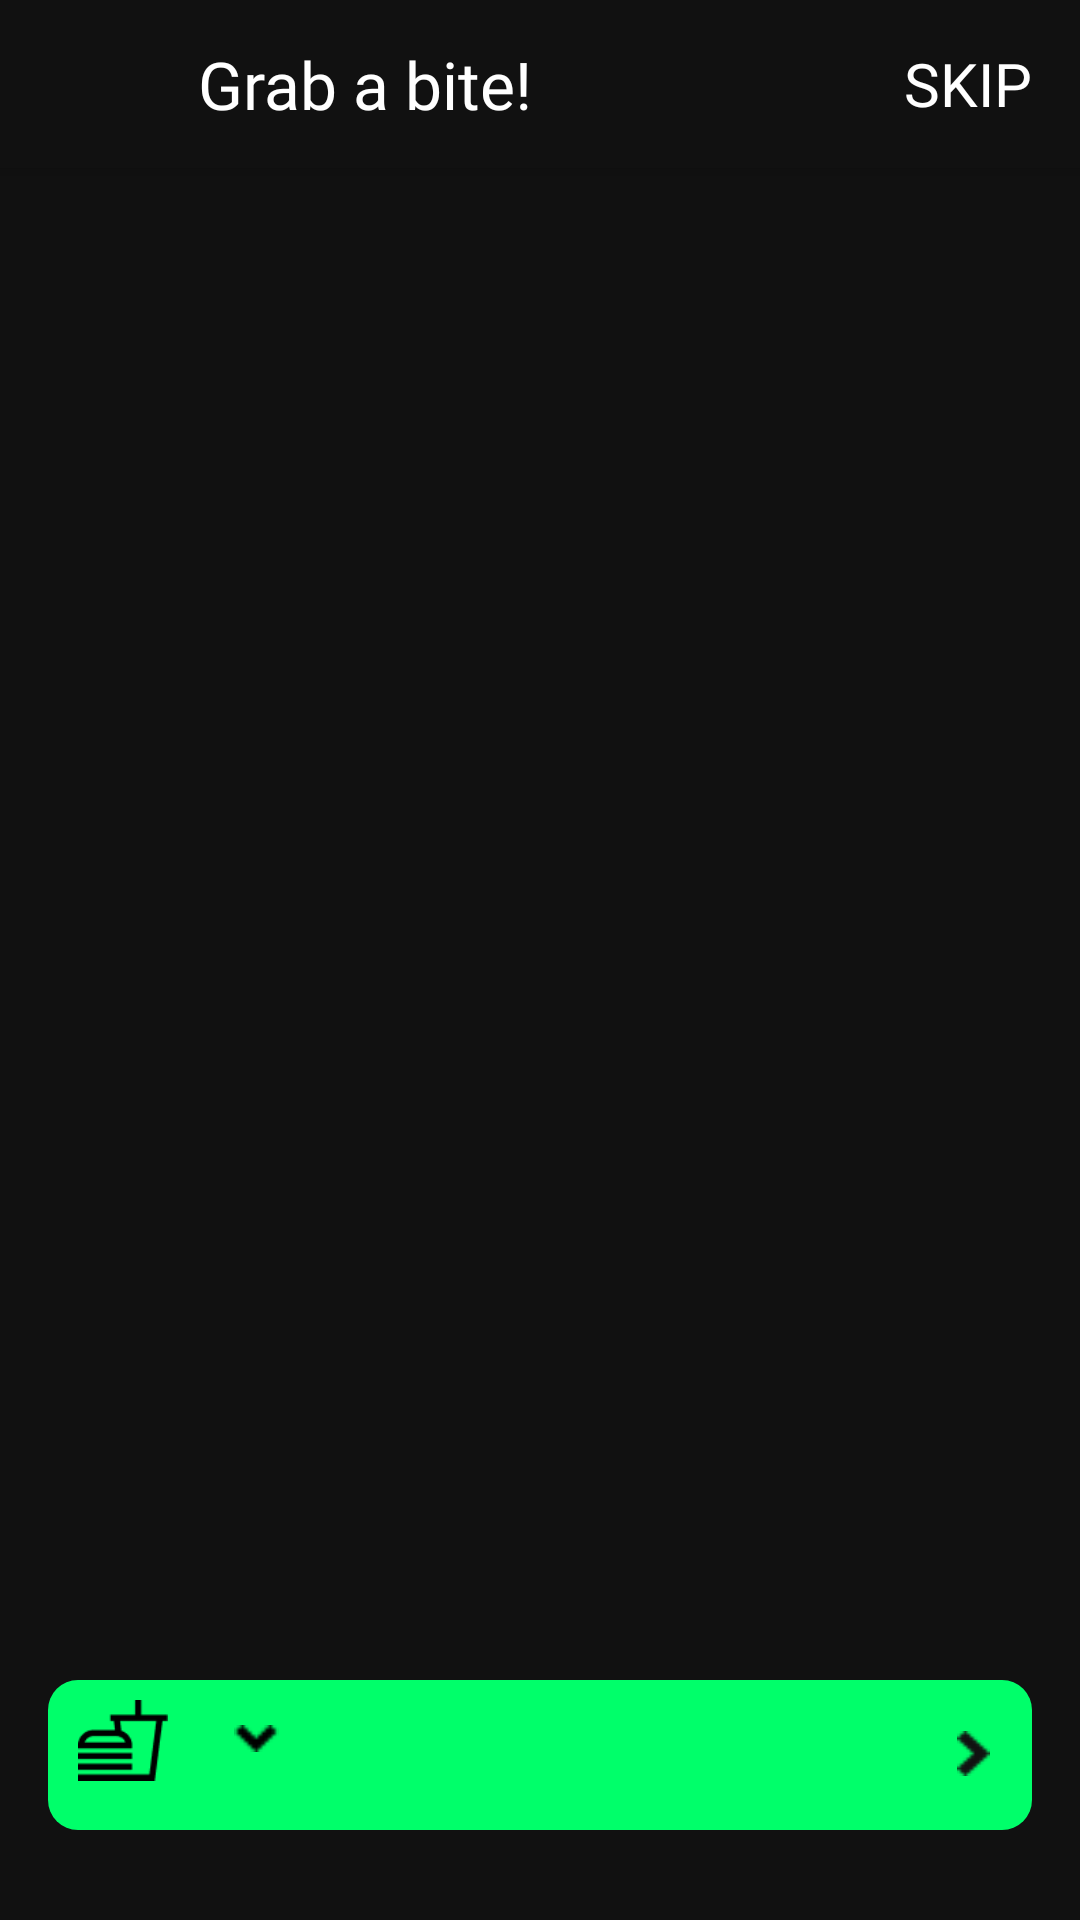

Where to tap for icons on this 1080w x 1920h app screen, as point (x, y):
down arrow: point (255, 1738)
forward: point (973, 1753)
online food: point (123, 1740)
